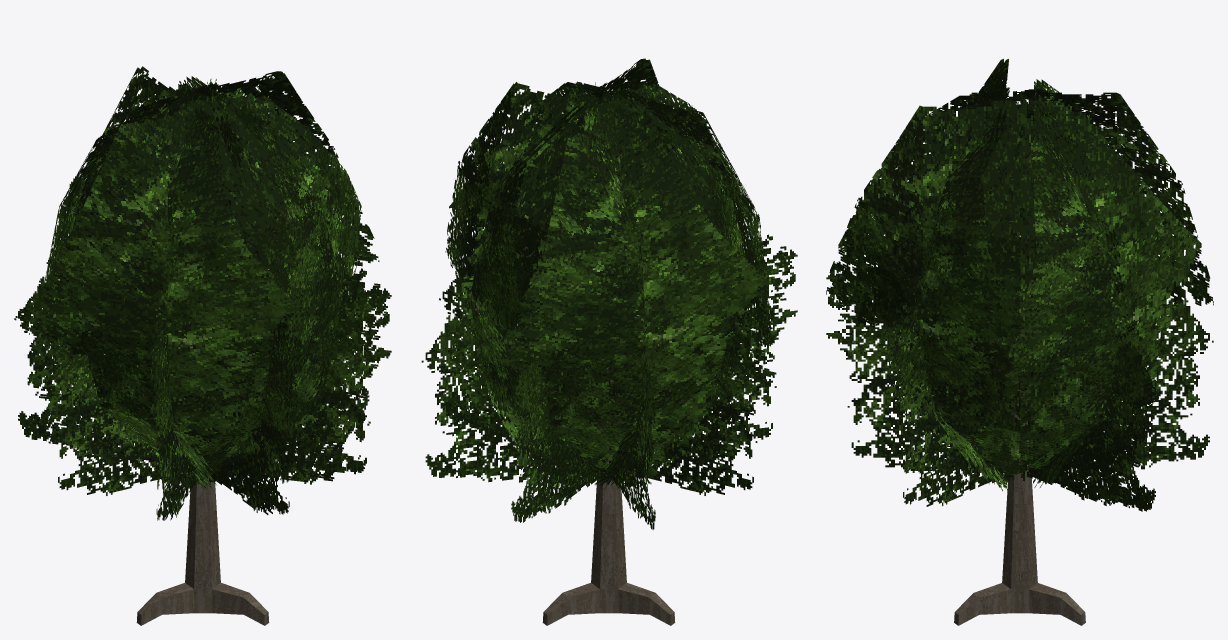
File: tree04_summer.glb
The picture shows the model from 3 angles, left to right: view 1: azimuth 30°, elevation 25°; view 2: azimuth 150°, elevation 25°; view 3: azimuth 270°, elevation 25°; orthographic projection.
Visible parts, largest first — view 1: tree04; view 2: tree04; view 3: tree04.
Part boxes in pixels (box(x1,y1,x2,y2)): tree04: box(14, 66, 391, 625); tree04: box(421, 58, 797, 625); tree04: box(826, 58, 1213, 625).
Size of the model in its own units: 5.92 by 8.64 by 5.92.
1 material, 1 textured.
